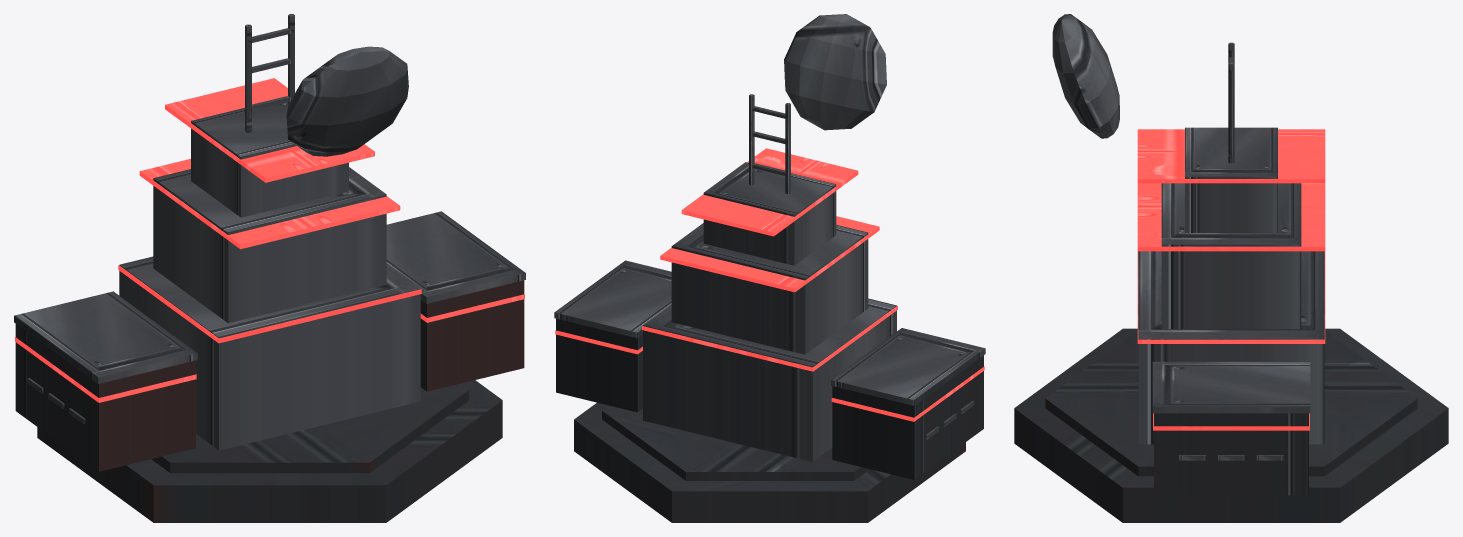
Rendered from crimson_fortress_hq.glb.
The picture shows the model from 3 angles, left to right: view 1: azimuth 30°, elevation 25°; view 2: azimuth 150°, elevation 25°; view 3: azimuth 270°, elevation 25°; orthographic projection. The views are drawn at different scales.
Parts seen in each view (by area): view 1: CrimsonFortressHQ; view 2: CrimsonFortressHQ; view 3: CrimsonFortressHQ.
Part boxes in pixels (left/top/right/bottom): CrimsonFortressHQ: left=14, top=14, right=525, bottom=522; CrimsonFortressHQ: left=554, top=14, right=985, bottom=522; CrimsonFortressHQ: left=1014, top=14, right=1448, bottom=522.
Bounding box in the file's own units: 5.96 × 6.01 × 5.6.
Materials: 3 (3 with a texture image).
